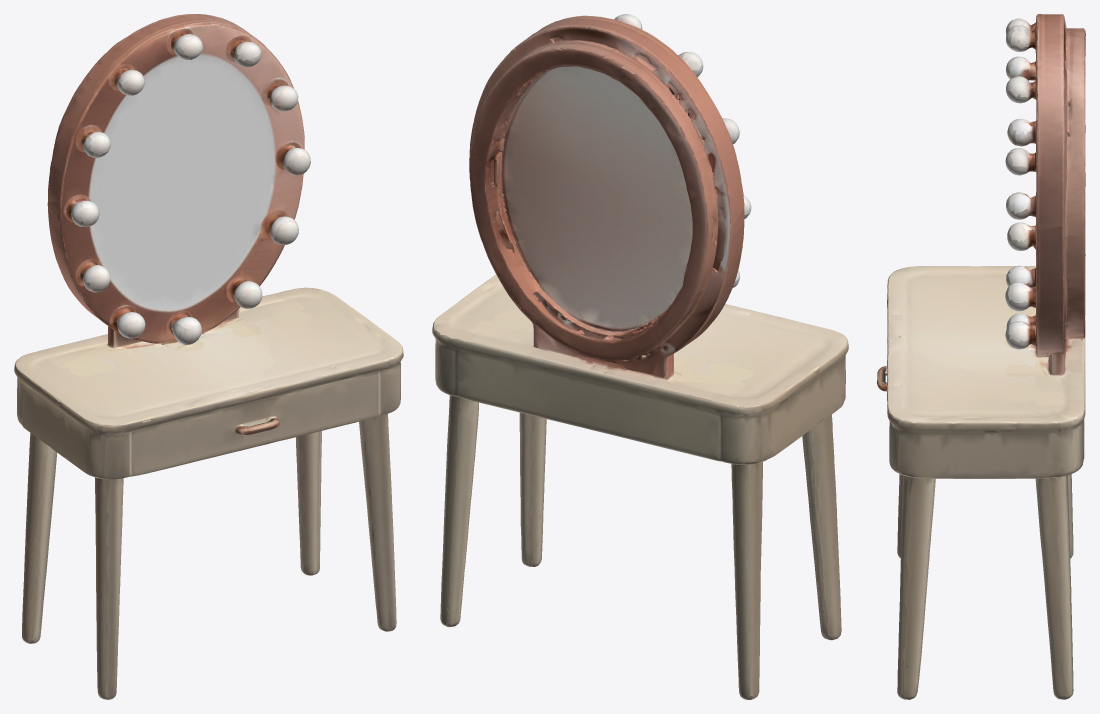
Rendered from vanity_glb.glb.
3 renders of one model, left to right at view 1: azimuth 30°, elevation 25°; view 2: azimuth 150°, elevation 25°; view 3: azimuth 270°, elevation 25°, orthographic. The views are drawn at different scales.
Parts seen in each view (by area): view 1: geometry_0; view 2: geometry_0; view 3: geometry_0.
Boxes of the visible parts, left/top/right/bottom form: geometry_0: left=14, top=14, right=403, bottom=699; geometry_0: left=432, top=14, right=848, bottom=699; geometry_0: left=877, top=14, right=1085, bottom=699.
Bounding box in the file's own units: 0.7564 × 1.35 × 0.4244.
Materials: 1 (1 with a texture image).
